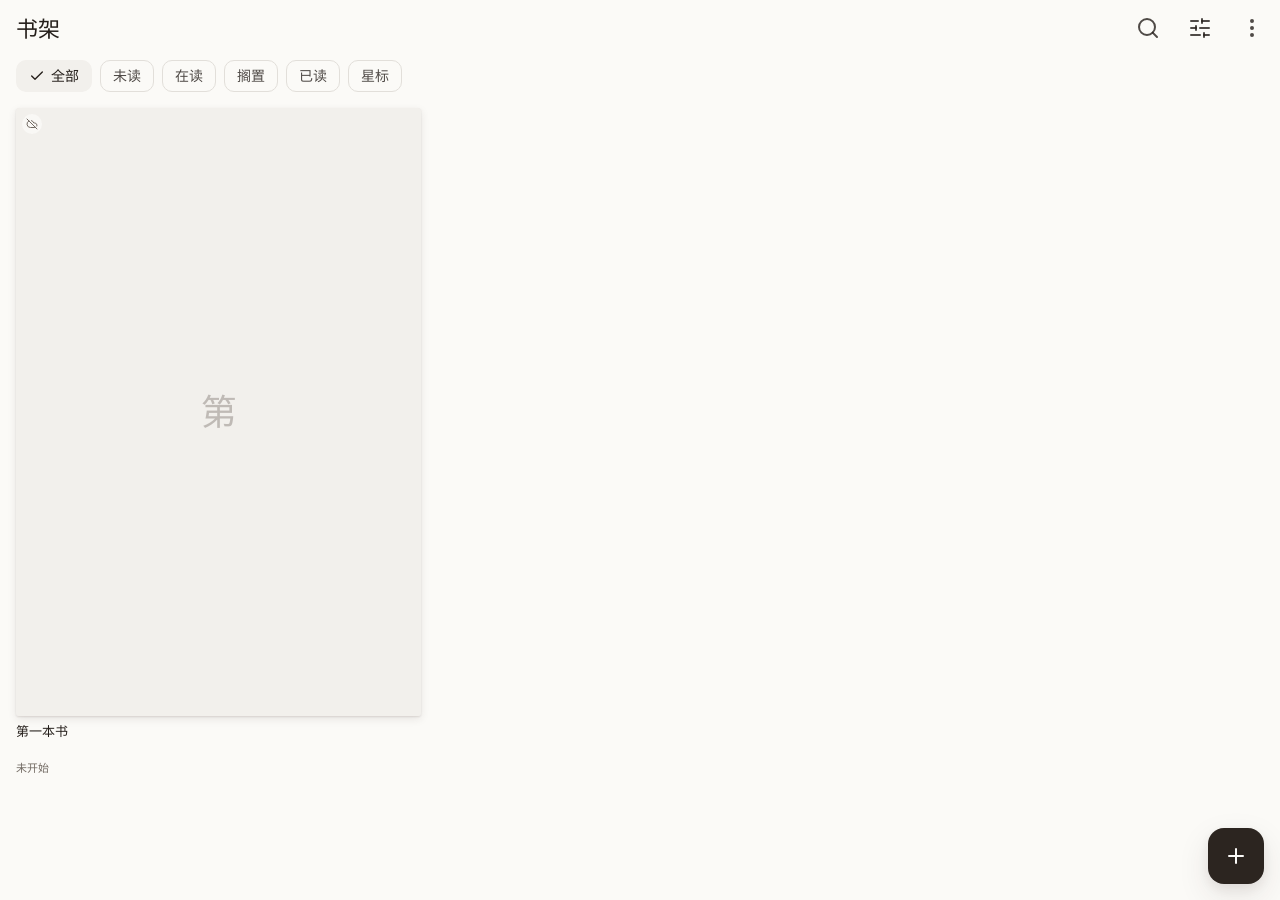
Test: MobileApp — Sync lifecycle › asks before downloading a not-cached Book on mobile data, and declining keeps it not cached
Click the button titled "第一本书": [219, 442] box [16, 108, 421, 776]
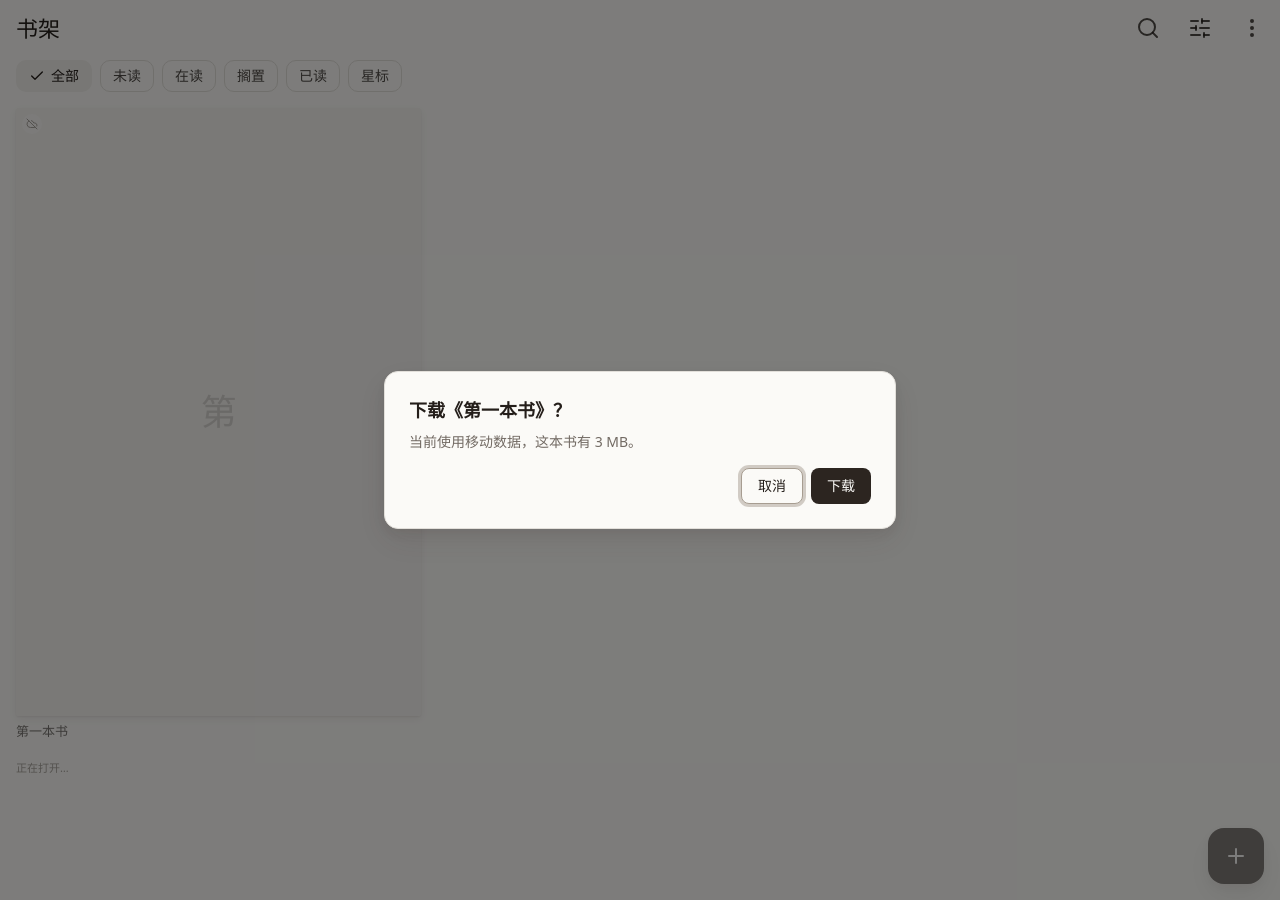
Expected: the text "当前使用移动数据，这本书有 3 MB。" is shown, [409, 432, 642, 451]
Click the button "取消": [772, 486] box [741, 468, 803, 504]
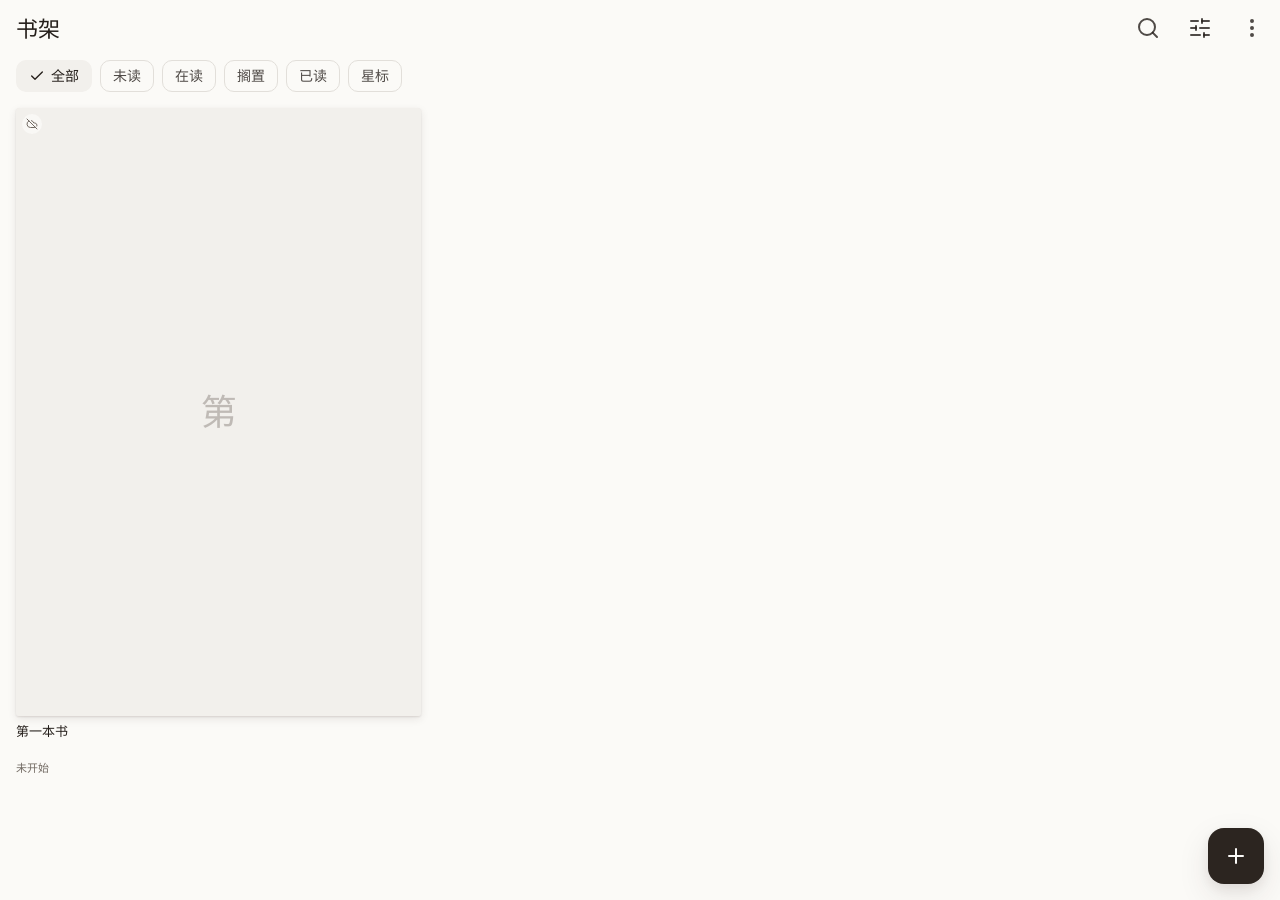
Expected: the dialog is gone
